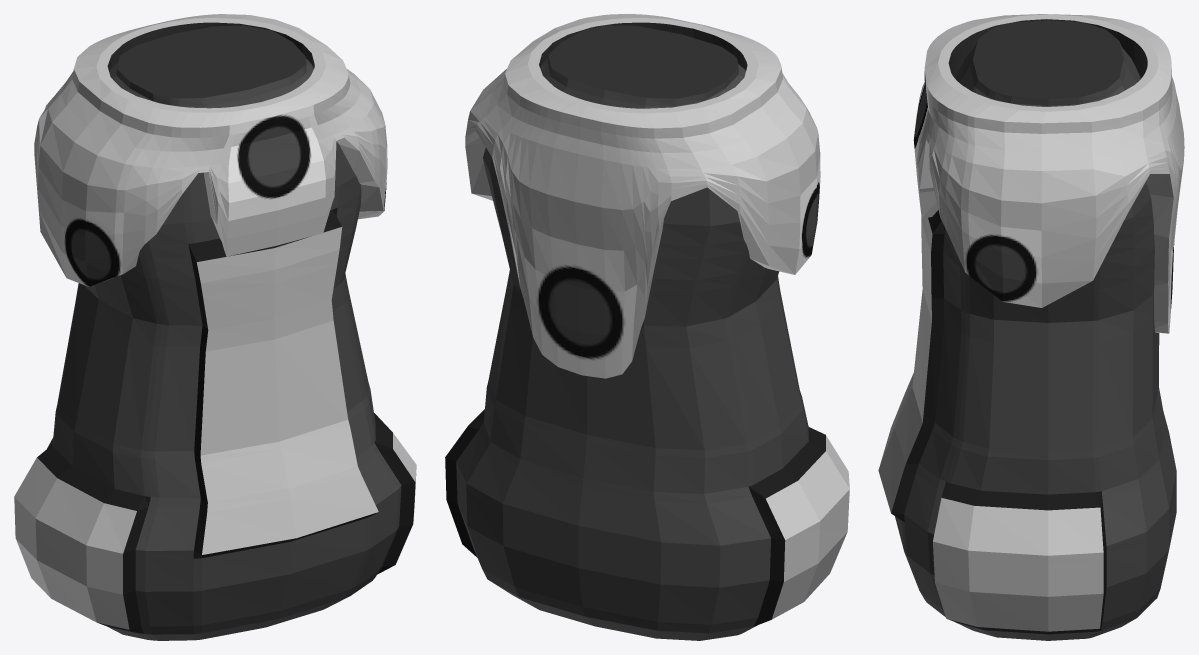
File: person_female_vacsuit.obj
3 renders of one model, left to right at view 1: azimuth 30°, elevation 25°; view 2: azimuth 150°, elevation 25°; view 3: azimuth 270°, elevation 25°, orthographic.
Bounding box in the file's own units: 0.5246 × 0.75 × 0.3983.
